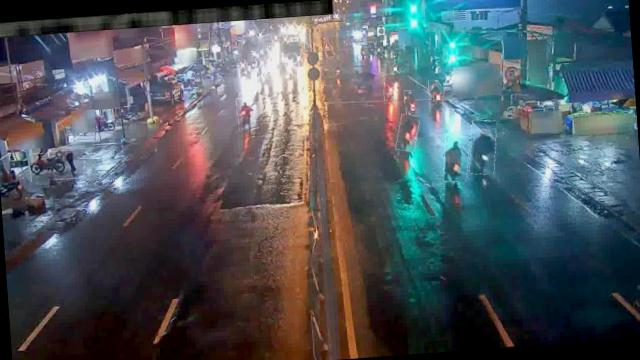Bike: (467, 118, 498, 174), (28, 150, 80, 182), (442, 134, 471, 182), (394, 113, 420, 151), (236, 98, 256, 130), (115, 105, 147, 125), (382, 74, 398, 105), (428, 79, 444, 109), (404, 90, 418, 115)
